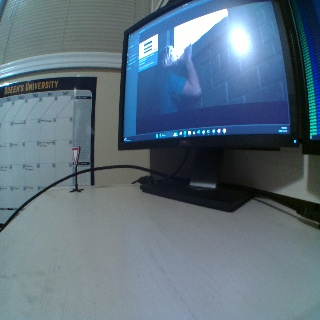sign_yield: (71, 147, 82, 165)
